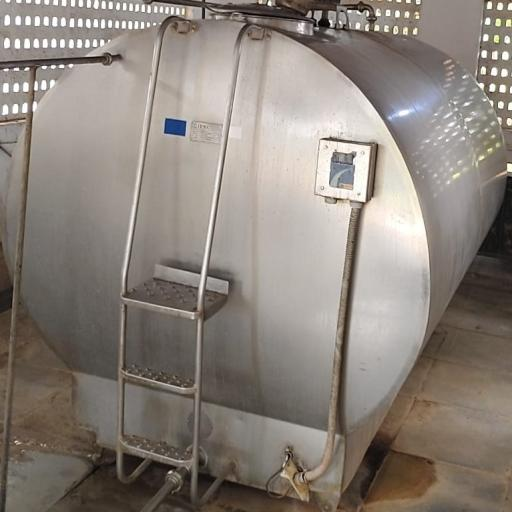silo: (0, 6, 508, 491)
